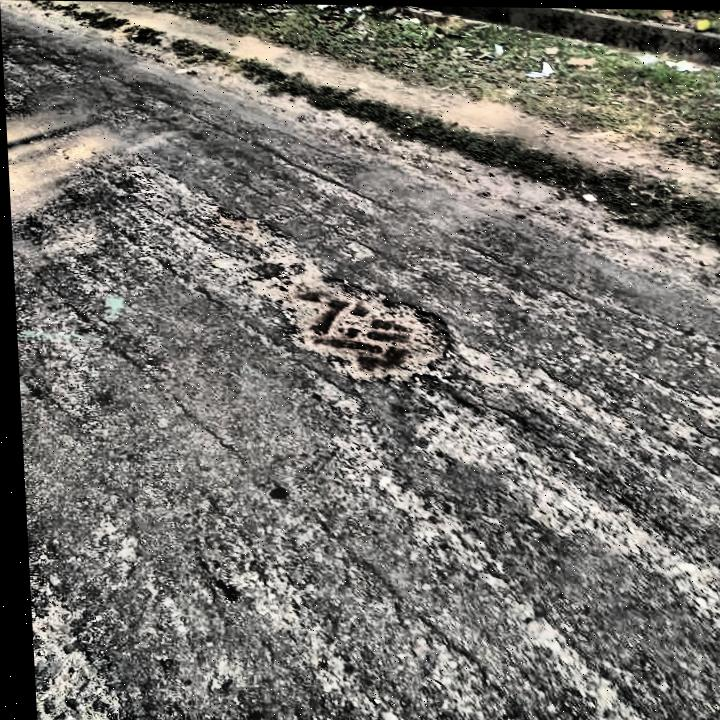pothole: (253, 262, 451, 383), (209, 208, 275, 243)
